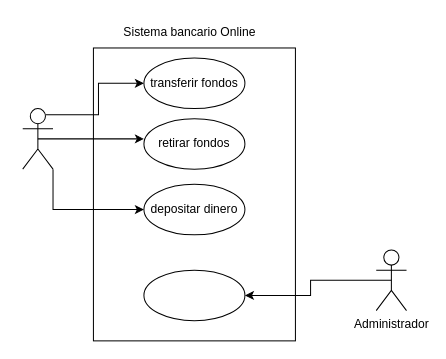
This 446x359 diagram has some shape labels left out. Here are the shapes that lost their labels. From the top down, the box of each, then its label:
(22, 108, 53, 169): Usuario
(143, 269, 245, 321): congelar cuentas
